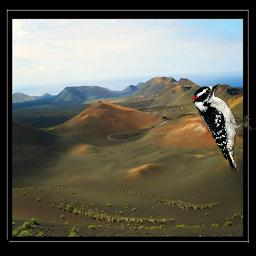Woodpecker: (192, 83, 256, 171)
